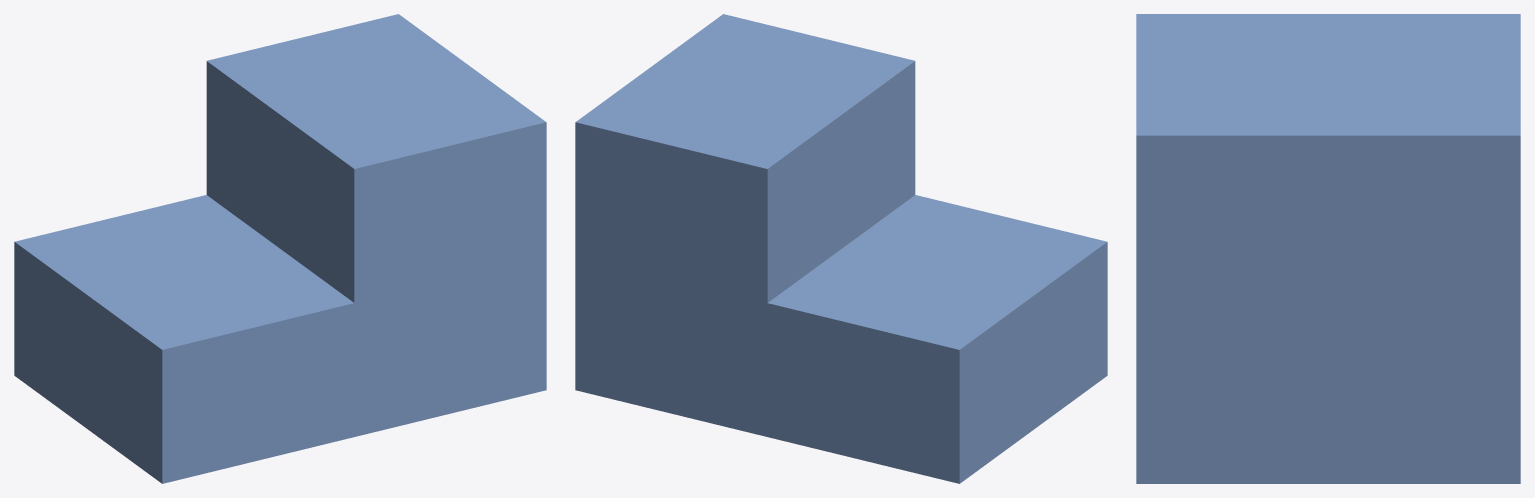
The model's file is step_02.glb.
3 renders of one model, left to right at view 1: azimuth 30°, elevation 25°; view 2: azimuth 150°, elevation 25°; view 3: azimuth 270°, elevation 25°, orthographic. The views are drawn at different scales.
Visible parts, largest first — view 1: part__step block; view 2: part__step block; view 3: part__step block.
Part boxes in pixels (<box>): part__step block: <box>14,14,546,483</box>; part__step block: <box>575,14,1107,483</box>; part__step block: <box>1136,14,1520,483</box>.
Size of the model in its own units: 60 by 40 by 40.
